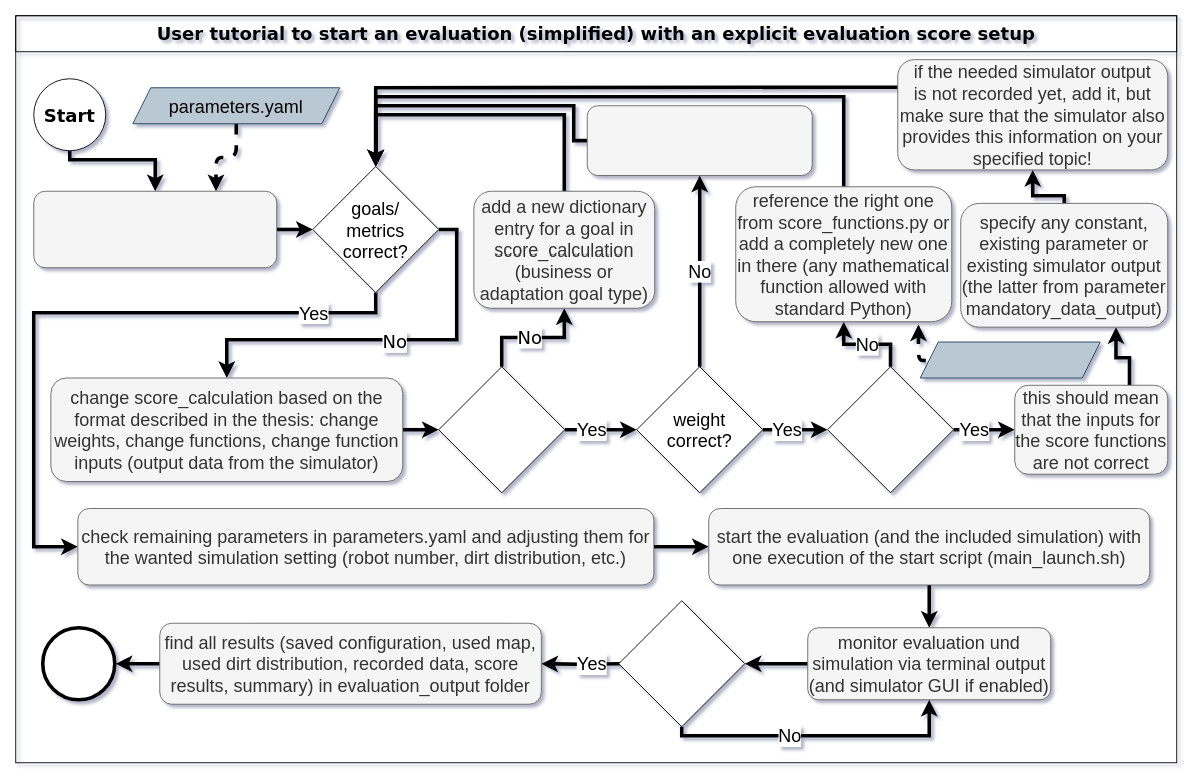
The diagram is 1198 pixels wide and 784 high, and some of its shapes have lost their labels. The centre of each missing label's shape, as x and y in pixels:
"check configuration in parameters.yaml (especially score_calculation parameter)" goes at pixel 155 229.
"End" goes at pixel 78 663.
"evaluation finished?" goes at pixel 681 663.
"function correct?" goes at pixel 890 429.
"goal exists?" goes at pixel 501 429.
"score_functions.py" goes at pixel 1009 359.
"simply adjust it in the parameter entry (value between 0 and 1)" goes at pixel 699 140.
